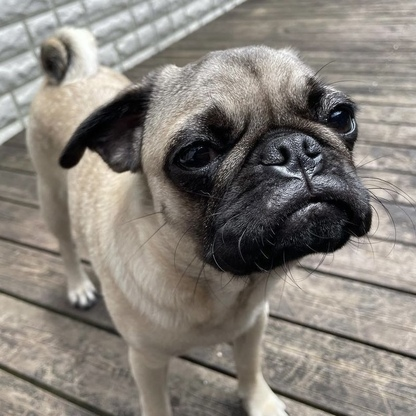Pug: (16, 20, 378, 416)
